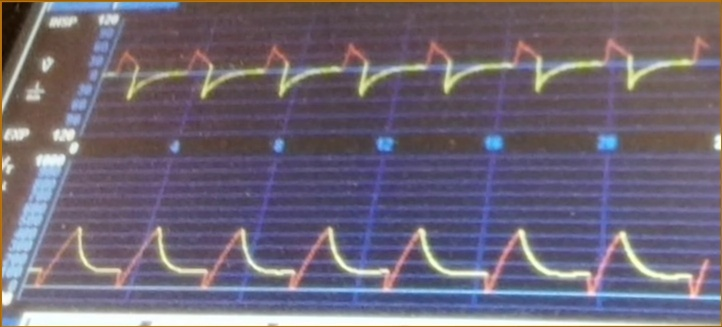Flow: (113, 24, 712, 131)
Leakage Volume: (49, 198, 711, 311)
